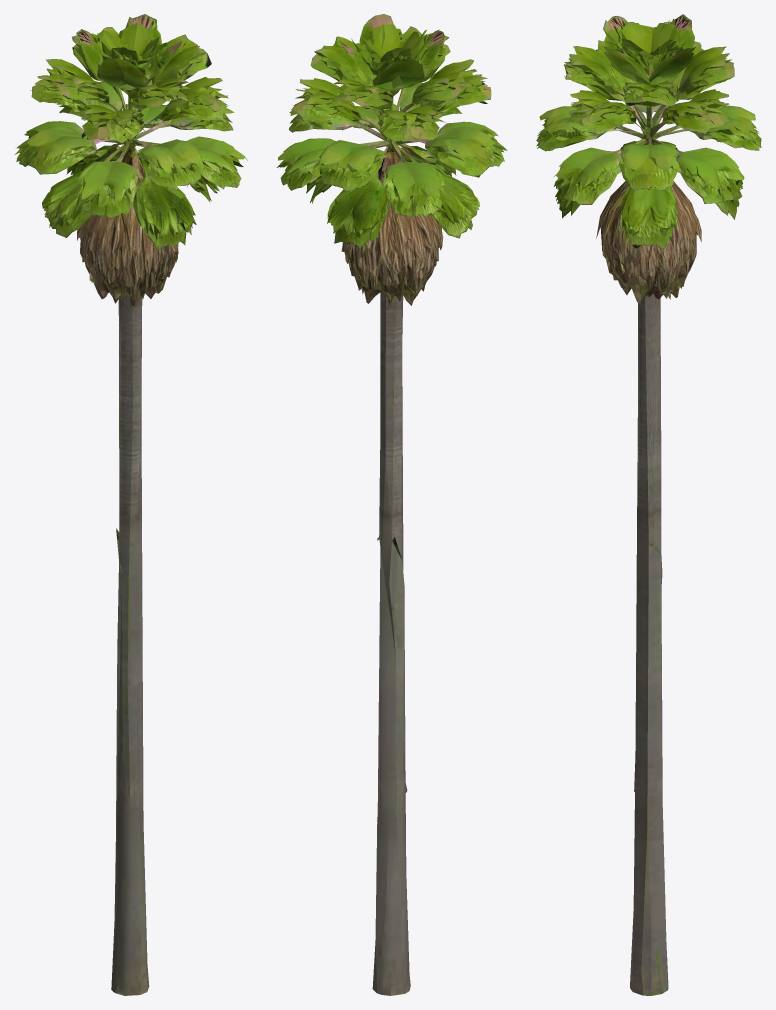
The model's file is washingtonia.glb.
3 views of the same model, side by side, from view 1: azimuth 30°, elevation 25°; view 2: azimuth 150°, elevation 25°; view 3: azimuth 270°, elevation 25° (orthographic).
Bounding box in the file's own units: 0.4048 × 1.89 × 0.4046.
1 material, 1 textured.
